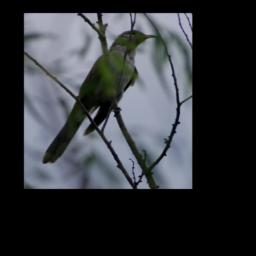Cuckoo: (36, 29, 156, 166)
